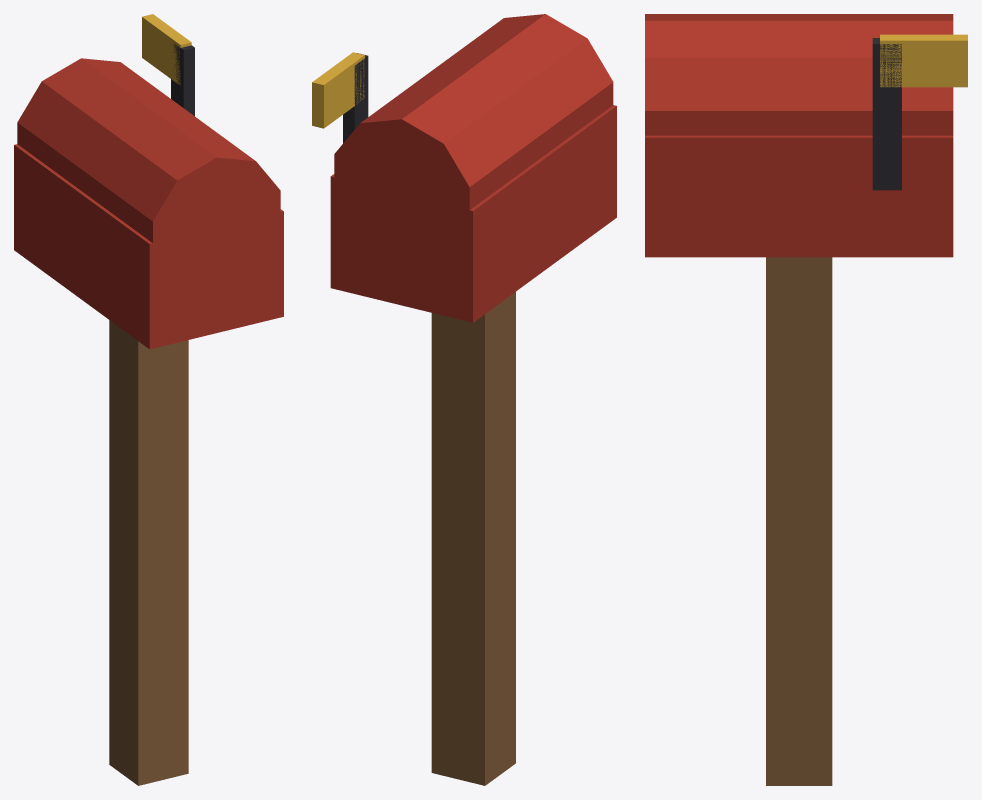
File: mailbox.glb
The picture shows the model from 3 angles, left to right: view 1: azimuth 30°, elevation 25°; view 2: azimuth 150°, elevation 25°; view 3: azimuth 270°, elevation 25°; orthographic projection. The views are drawn at different scales.
Visible parts, largest first — view 1: mailbox; view 2: mailbox; view 3: mailbox.
Boxes of the visible parts, x1,y1,x2,y2 form: mailbox: (14, 14, 283, 785); mailbox: (312, 14, 616, 785); mailbox: (645, 14, 967, 785).
Size of the model in its own units: 0.26 by 1.16 by 0.44.
